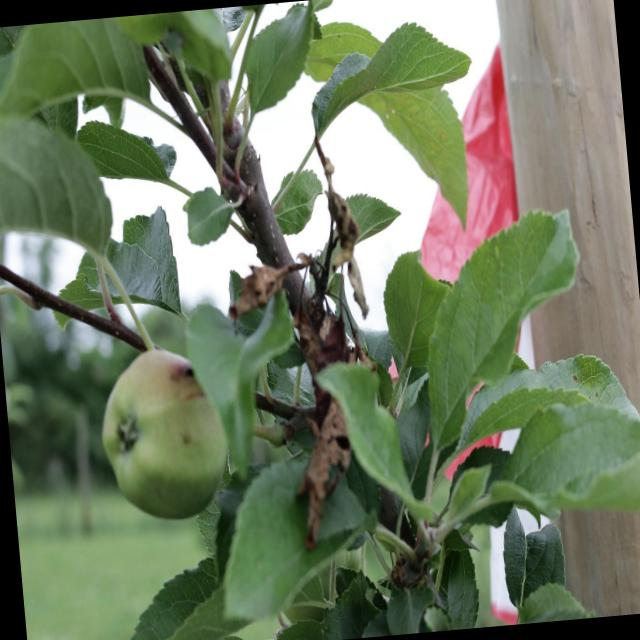-FireBlight-: (199, 154, 378, 523)
